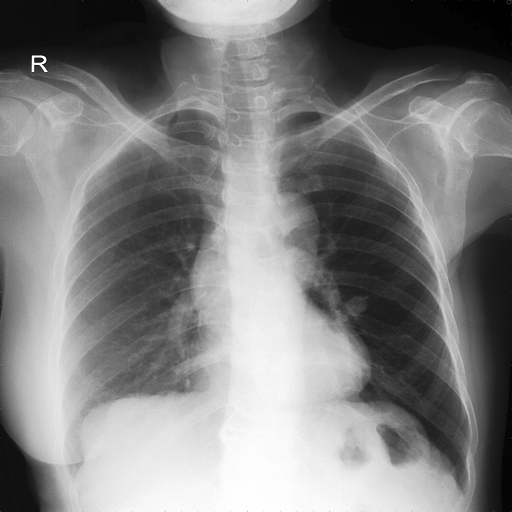Calcification: (279, 112, 301, 128)
Consolidation: (227, 191, 319, 267)
Lung Opacity: (334, 295, 368, 323)
Other lesion: (61, 388, 152, 474), (378, 402, 464, 489)
Pulmonary fibrosis: (347, 294, 368, 316)
